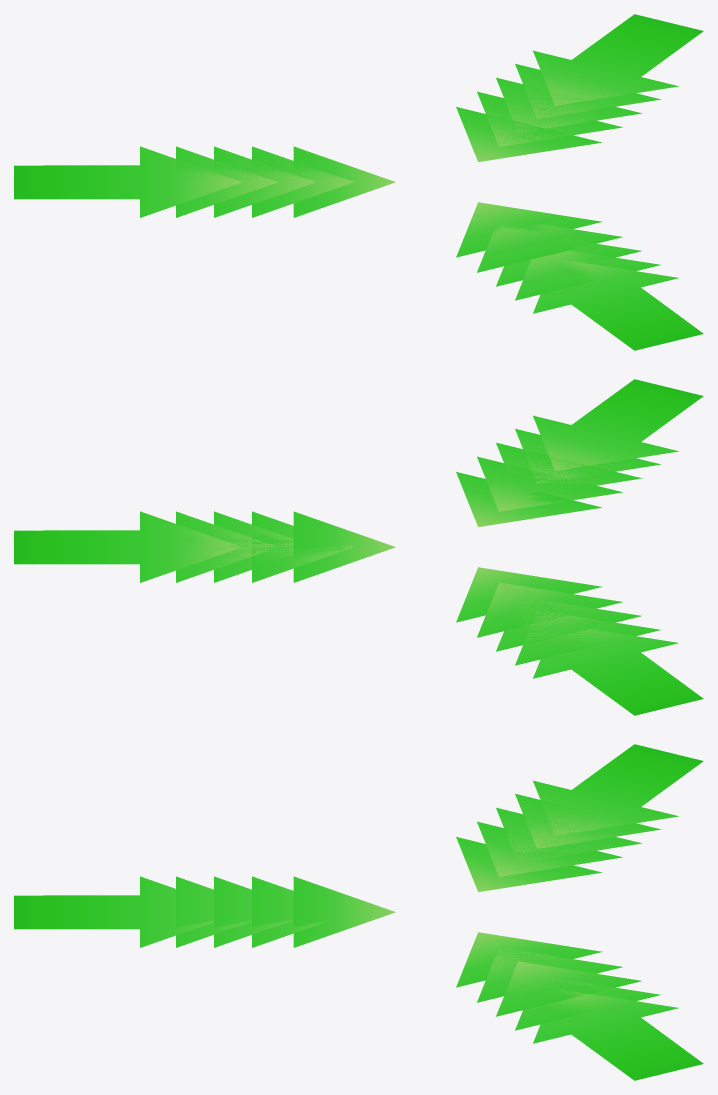
Rendered from arrowAnimation14.fbx.
3 views of the same model, one above another, from view 1: azimuth 30°, elevation 25°; view 2: azimuth 150°, elevation 25°; view 3: azimuth 270°, elevation 25° (orthographic).
Visible parts, largest first — view 1: frame1, frame5, frame4, frame2, frame3; view 2: frame1, frame4, frame5, frame3, frame2; view 3: frame1, frame5, frame3, frame4, frame2.
Part boxes in pixels (x1=…): frame1: x1=14, y1=14, x2=703, y2=350; frame5: x1=293, y1=107, x2=602, y2=257; frame4: x1=252, y1=91, x2=622, y2=272; frame2: x1=138, y1=63, x2=661, y2=300; frame3: x1=214, y1=77, x2=642, y2=286; frame1: x1=14, y1=379, x2=703, y2=715; frame4: x1=252, y1=456, x2=622, y2=637; frame5: x1=293, y1=472, x2=602, y2=622; frame3: x1=214, y1=442, x2=642, y2=651; frame2: x1=138, y1=428, x2=661, y2=665; frame1: x1=14, y1=744, x2=703, y2=1080; frame5: x1=293, y1=837, x2=602, y2=987; frame3: x1=214, y1=807, x2=642, y2=1016; frame4: x1=252, y1=821, x2=622, y2=1002; frame2: x1=138, y1=793, x2=661, y2=1030.
Size of the model in its own units: 0.0215 by 8.12e-06 by 0.0186.
